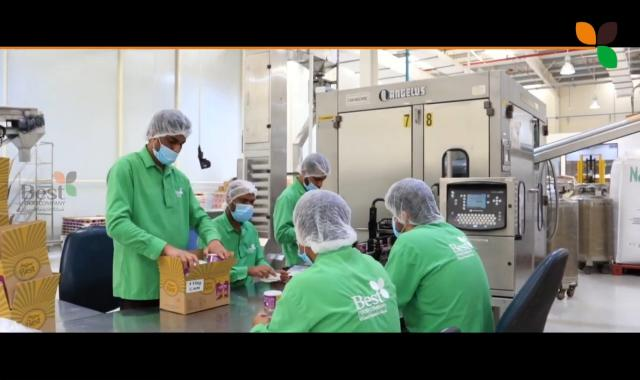hairnet: (293, 189, 354, 253), (384, 176, 443, 226), (145, 108, 189, 148), (226, 177, 256, 217), (299, 152, 327, 184)
